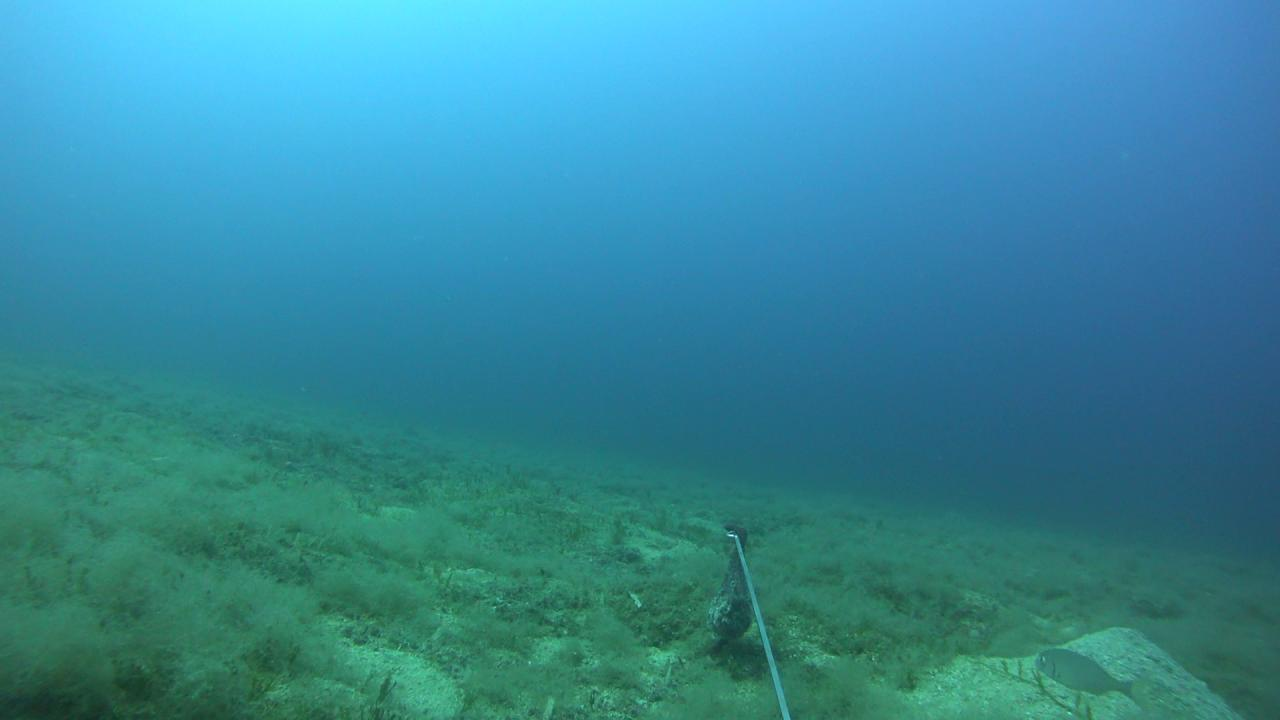pagellus: (1033, 646, 1150, 710)
